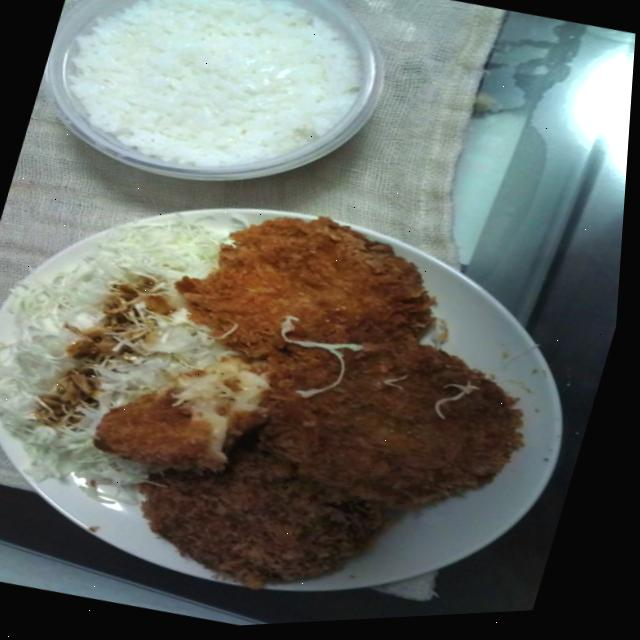炸货点心: (68, 159, 598, 636)
米饭主食: (17, 0, 411, 231)
蔬菜料理: (0, 170, 249, 509)
